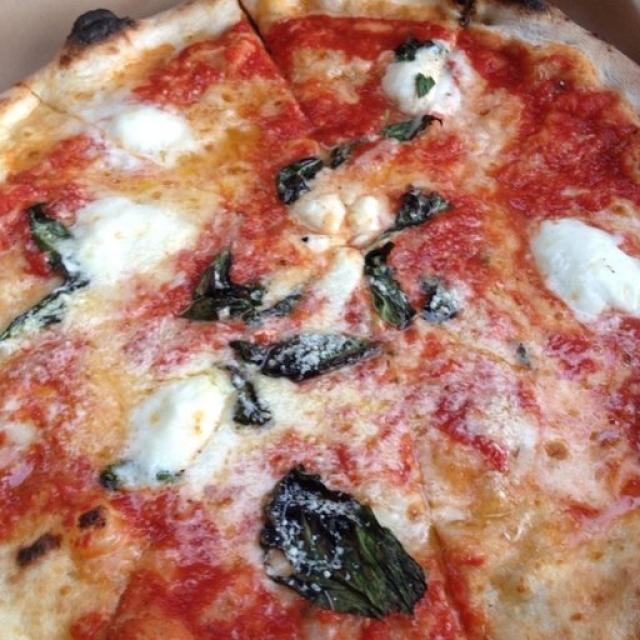Basil: (272, 471, 422, 614), (14, 198, 79, 338), (229, 331, 370, 376), (195, 255, 257, 320), (217, 353, 269, 427), (365, 246, 406, 324), (395, 175, 446, 228), (274, 150, 318, 208), (110, 460, 175, 487), (423, 280, 449, 328), (384, 118, 434, 140), (332, 138, 352, 172), (418, 74, 433, 97)
Cheese: (466, 481, 621, 629), (528, 222, 640, 314), (128, 372, 221, 472), (72, 200, 190, 264), (296, 206, 365, 303), (396, 45, 469, 118), (106, 108, 192, 144)
Pizza: (0, 0, 640, 640)
